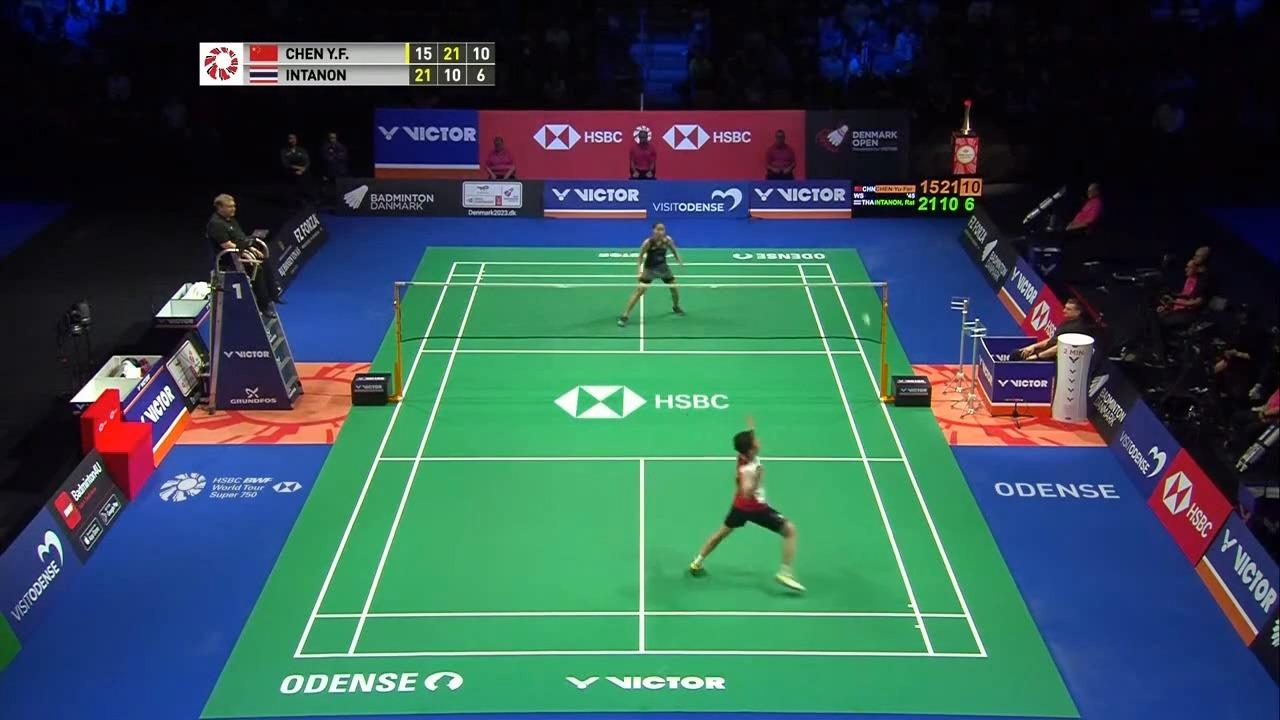shuttle: (860, 312, 873, 329)
